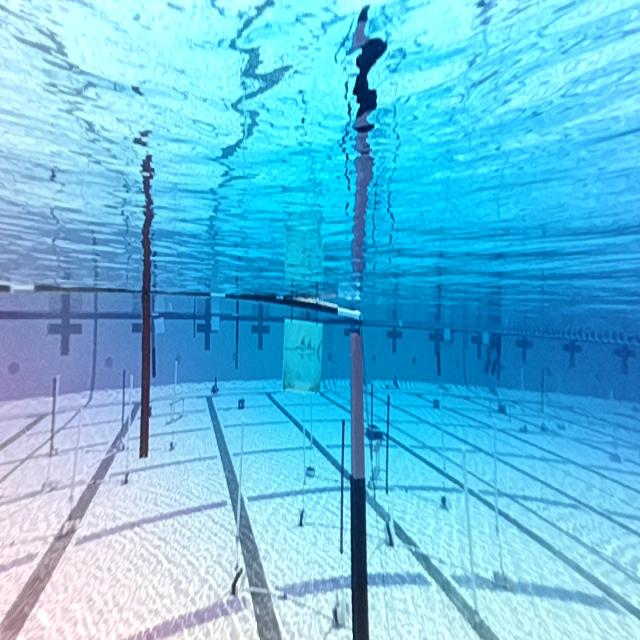pointed_nose: (284, 318, 324, 392)
